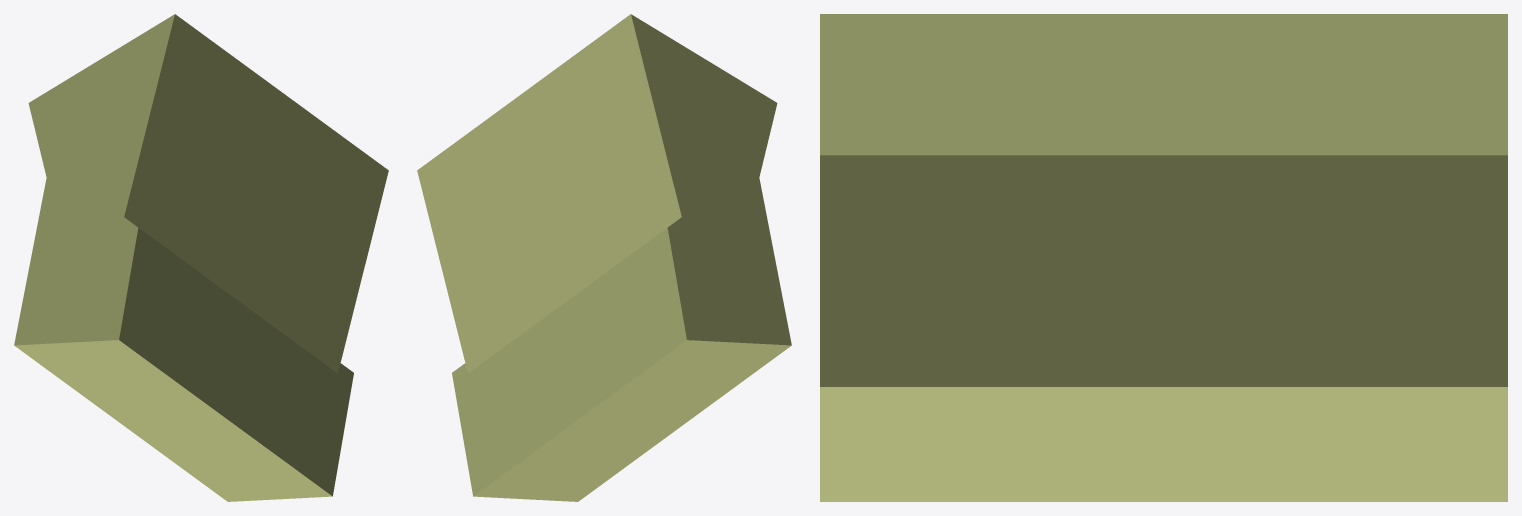
3 views of the same model, side by side, from view 1: azimuth 30°, elevation 25°; view 2: azimuth 150°, elevation 25°; view 3: azimuth 270°, elevation 25° (orthographic). The views are drawn at different scales.
Parts seen in each view (by area): view 1: 0_1_3_2_1_1_1_3_0_1_3; view 2: 0_1_3_2_1_1_1_3_0_1_3; view 3: 0_1_3_2_1_1_1_3_0_1_3.
Part boxes in pixels (x1=…): 0_1_3_2_1_1_1_3_0_1_3: x1=14, y1=14, x2=388, y2=501; 0_1_3_2_1_1_1_3_0_1_3: x1=417, y1=14, x2=791, y2=501; 0_1_3_2_1_1_1_3_0_1_3: x1=820, y1=14, x2=1507, y2=501.
Size of the model in its own units: 3.91 by 7.26 by 9.
